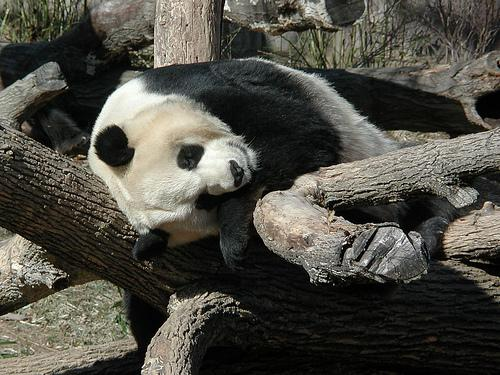panda: (88, 58, 482, 268)
